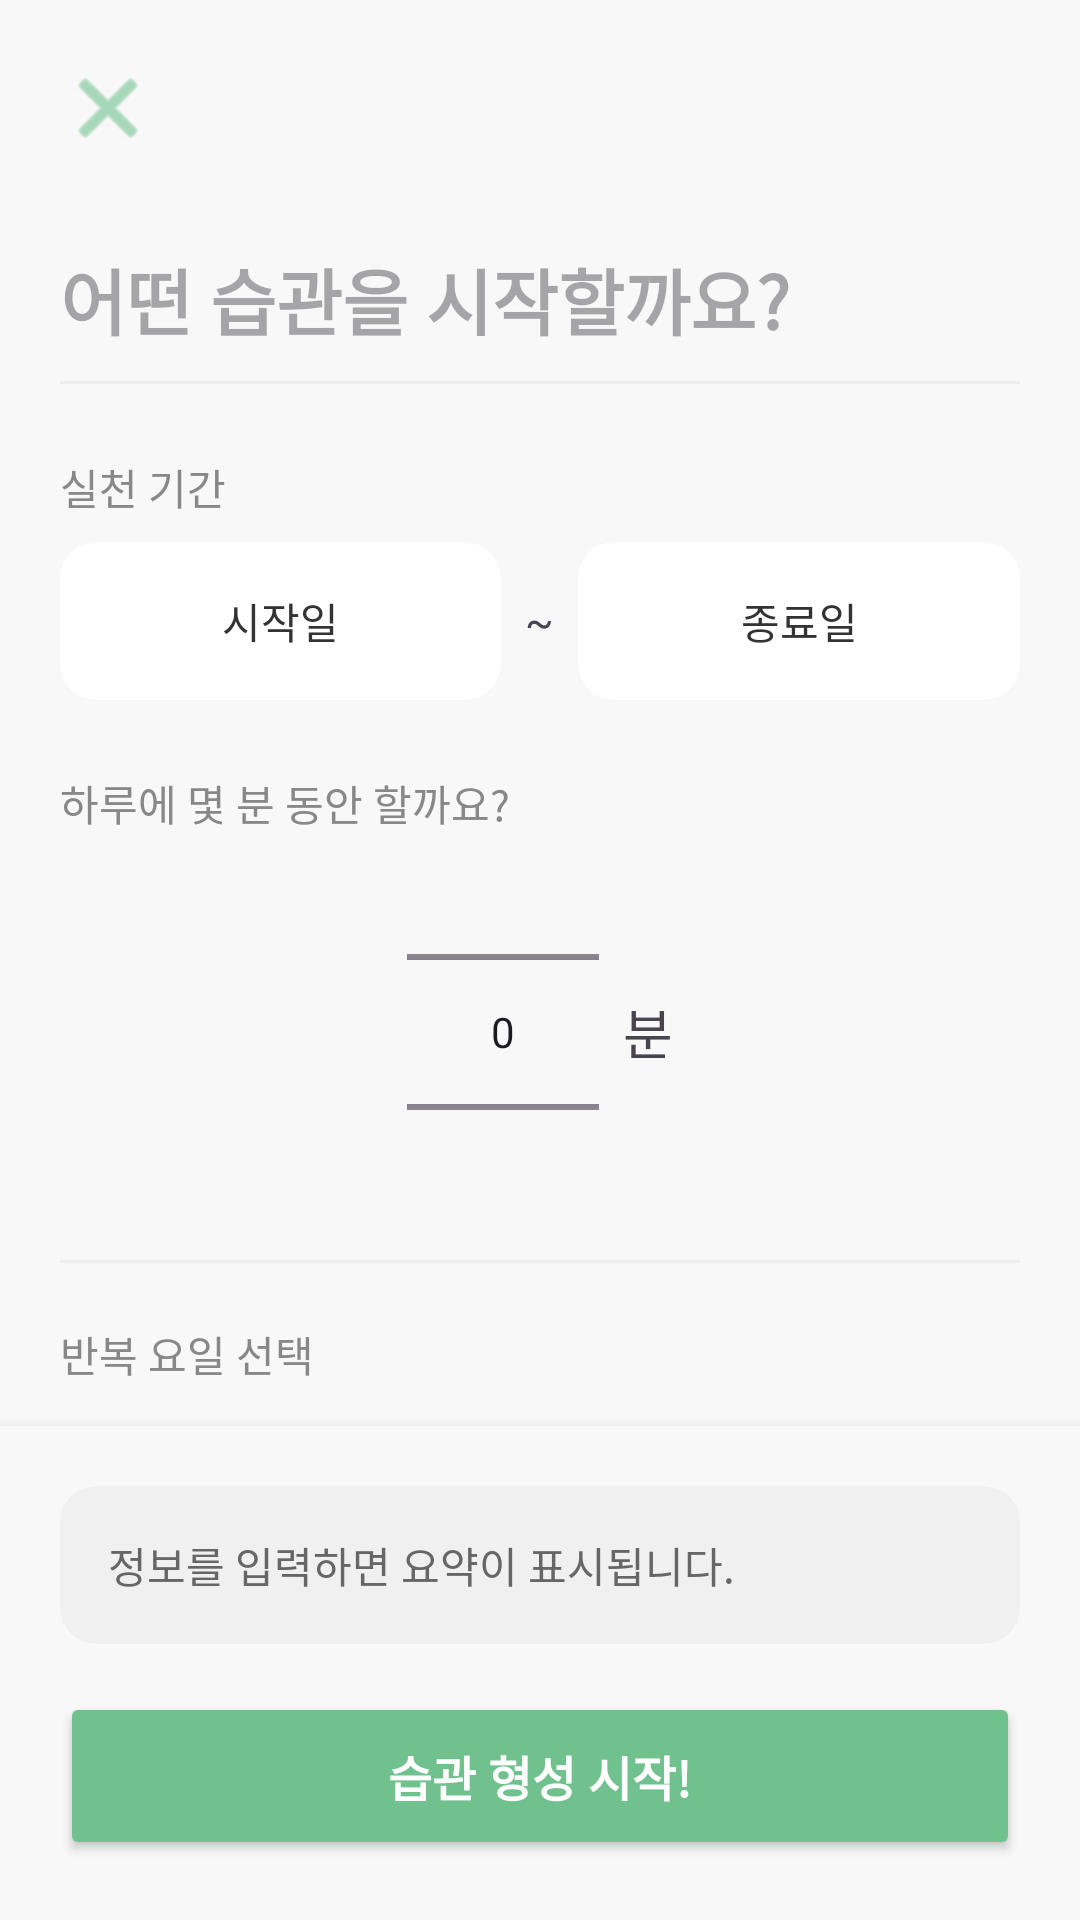

Icon click points for this 1080 x 1920 phone screenshot, format [x,y]:
close clear cancel: [108,108]
